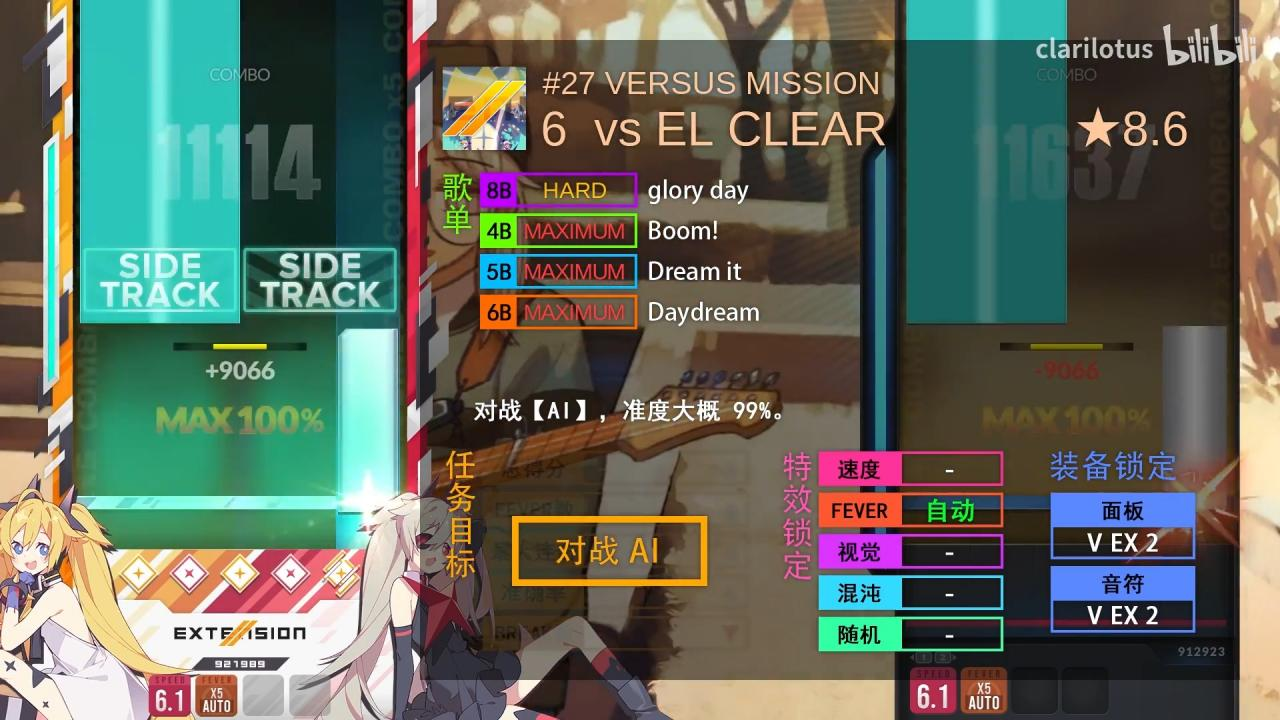hold-end: (338, 329, 398, 347)
side-start: (80, 306, 240, 324)
